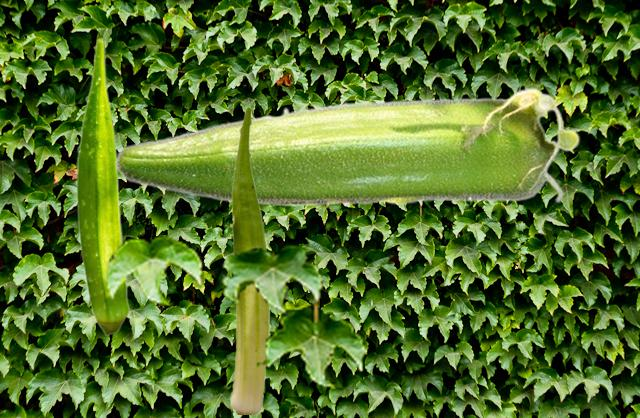okra: (114, 86, 579, 206), (76, 37, 129, 335), (230, 106, 269, 413)
